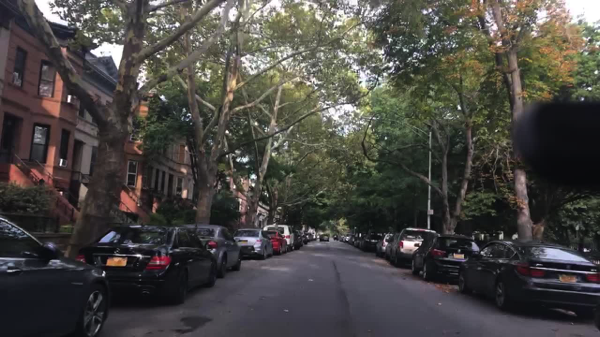car: (1, 217, 110, 337), (75, 224, 218, 305), (458, 238, 599, 320), (181, 224, 242, 278), (410, 235, 479, 280), (384, 228, 437, 266), (233, 228, 274, 260), (263, 225, 295, 251), (264, 231, 288, 255), (359, 235, 381, 253), (374, 234, 392, 256), (339, 233, 353, 243), (301, 229, 309, 245), (297, 229, 303, 248), (354, 235, 363, 247), (346, 235, 357, 244), (319, 233, 330, 242), (306, 233, 315, 240), (315, 233, 322, 238), (333, 234, 338, 241)
traffic sign: (427, 210, 433, 217)
